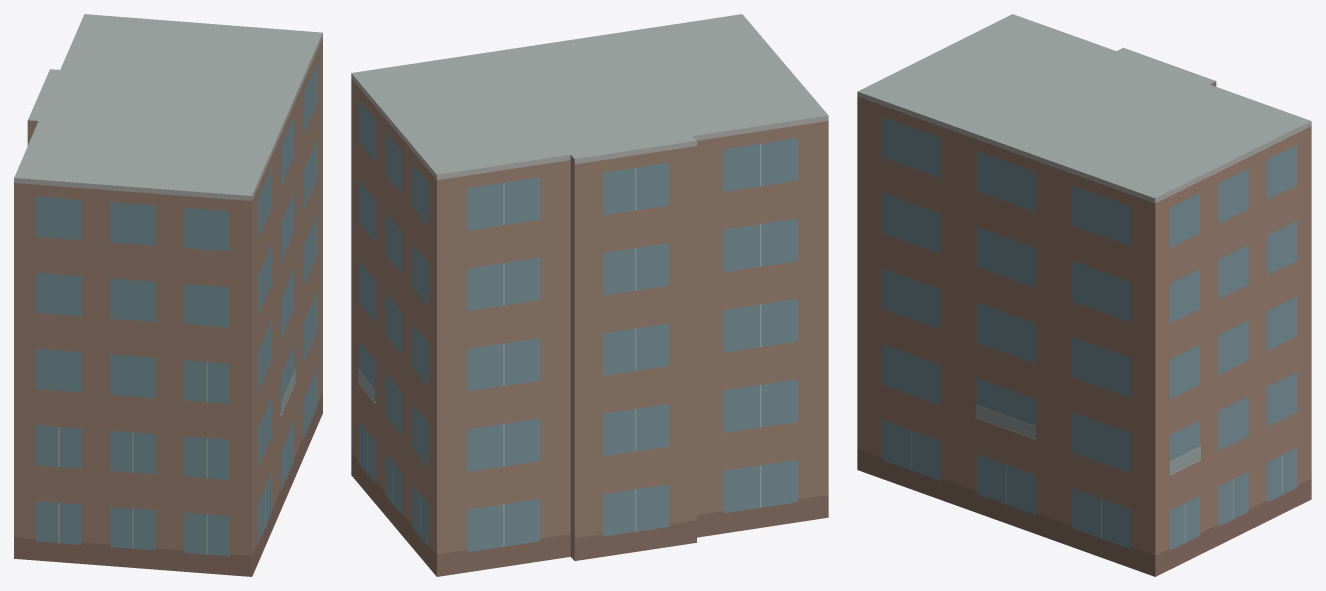
File: survey-upis-32882691.glb
3 renders of one model, left to right at view 1: azimuth 30°, elevation 25°; view 2: azimuth 150°, elevation 25°; view 3: azimuth 270°, elevation 25°, orthographic. The views are drawn at different scales.
Visible parts, largest first — view 1: survey-upis-32882691.tmp; view 2: survey-upis-32882691.tmp; view 3: survey-upis-32882691.tmp.
Part boxes in pixels (left/top/right/bottom): survey-upis-32882691.tmp: left=14, top=14, right=322, bottom=576; survey-upis-32882691.tmp: left=351, top=14, right=828, bottom=576; survey-upis-32882691.tmp: left=857, top=14, right=1311, bottom=576.
Bounding box in the file's own units: 19.25 × 18.4 × 20.02.
